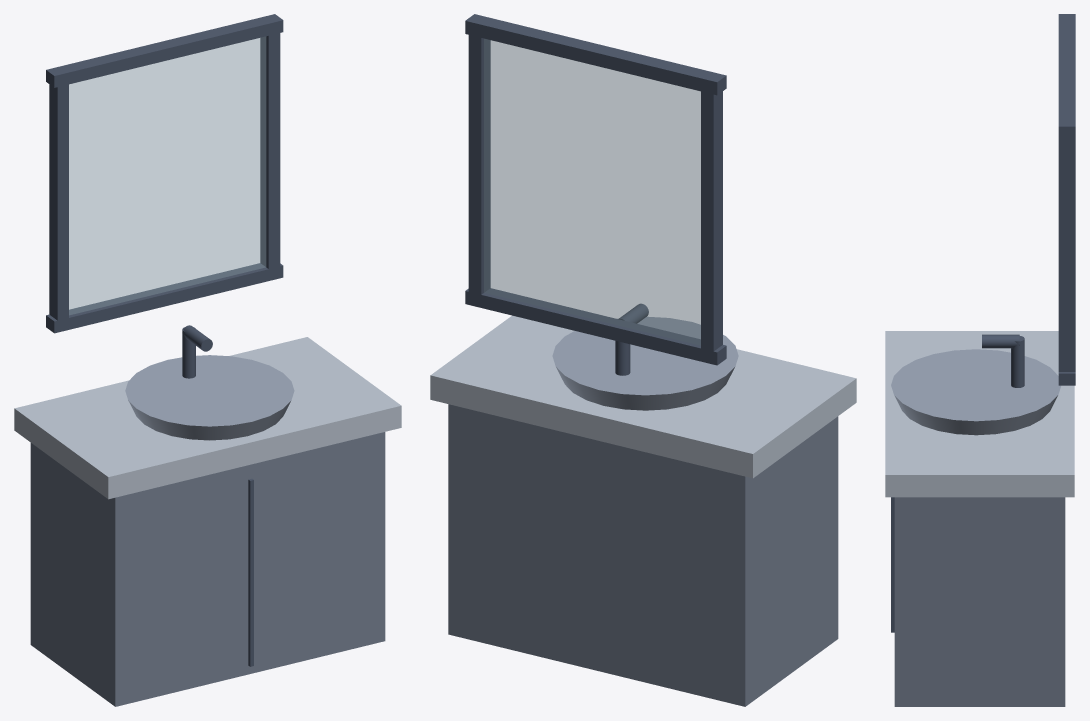
Rendered from basin.glb.
The picture shows the model from 3 angles, left to right: view 1: azimuth 30°, elevation 25°; view 2: azimuth 150°, elevation 25°; view 3: azimuth 270°, elevation 25°; orthographic projection. The views are drawn at different scales.
Visible parts, largest first — view 1: basin; view 2: basin; view 3: basin.
Boxes of the visible parts, <box> form: basin: <box>14,14,401,706</box>; basin: <box>430,14,856,706</box>; basin: <box>885,14,1075,706</box>.
Bounding box in the file's own units: 0.9 × 1.66 × 0.5025.
